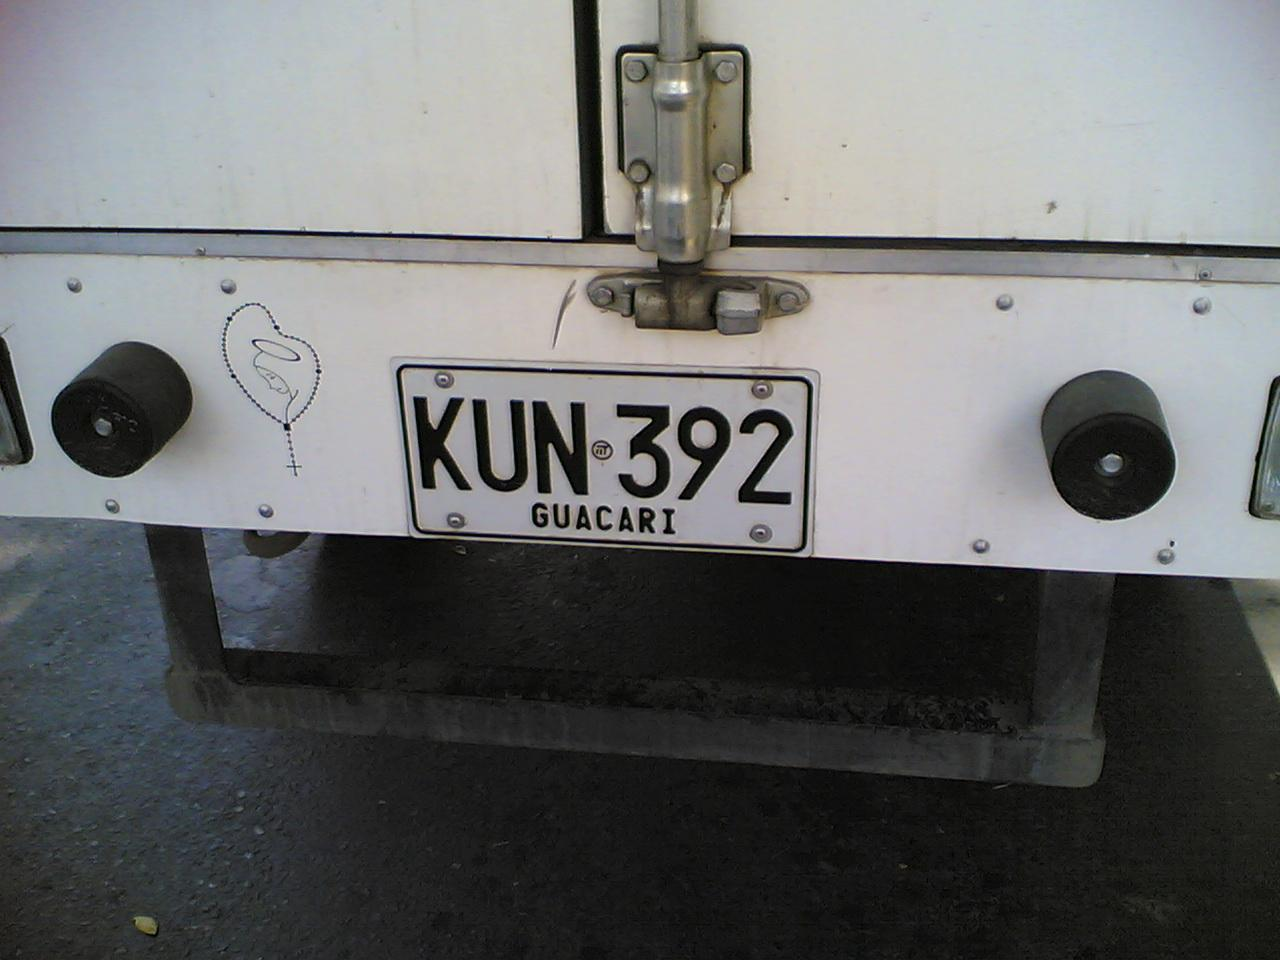placas: (386, 350, 826, 560)
